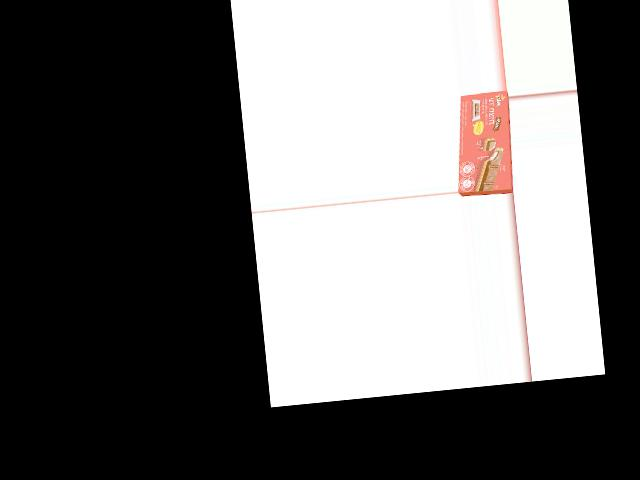chocolate: (454, 90, 513, 196)
